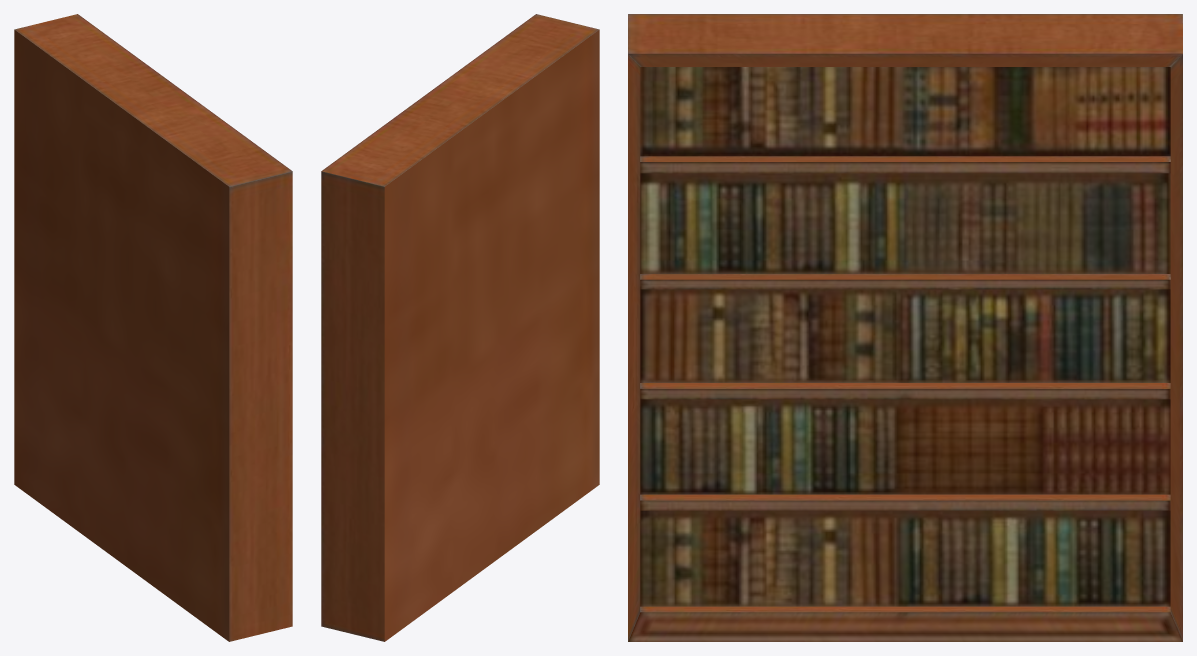
Rendered from Shelf.fbx.
3 renders of one model, left to right at view 1: azimuth 30°, elevation 25°; view 2: azimuth 150°, elevation 25°; view 3: azimuth 270°, elevation 25°, orthographic. The views are drawn at different scales.
Visible parts, largest first — view 1: Shelf; view 2: Shelf; view 3: Shelf.
Boxes of the visible parts, box(x1,y1,x2,y2) form: Shelf: box(14, 14, 292, 641); Shelf: box(321, 14, 599, 641); Shelf: box(628, 14, 1182, 641).
Bounding box in the file's own units: 173 × 1184 × 1012.
